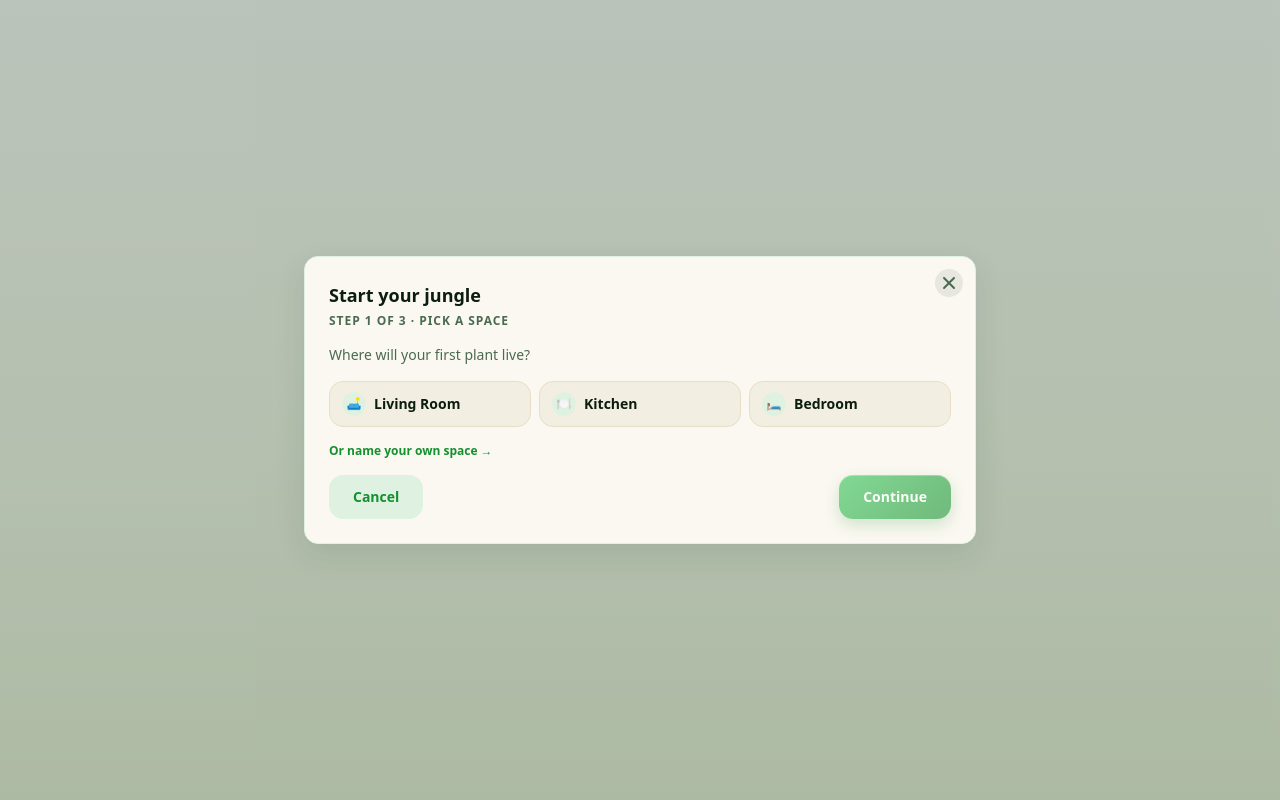
Scenario: StartJungleDialog › creates the picked space and advances to step 2 (Pick a plant)
This screenshot has width=1280, height=800.
Step 1. Click the checkbox labelled "🛋️ Living Room" → point(430, 404), box [330,382,530,426]
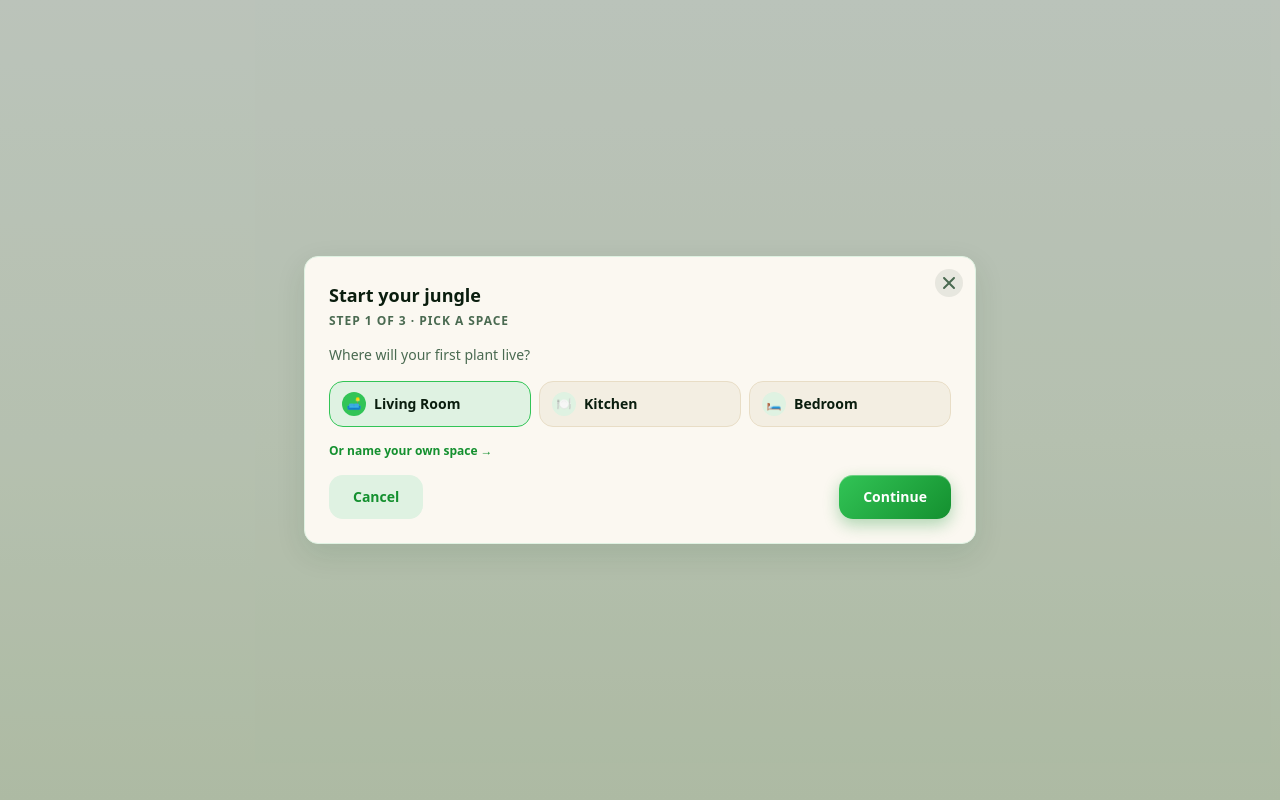
Step 2. Click the button "Continue" → point(895, 497), box [839,475,951,519]
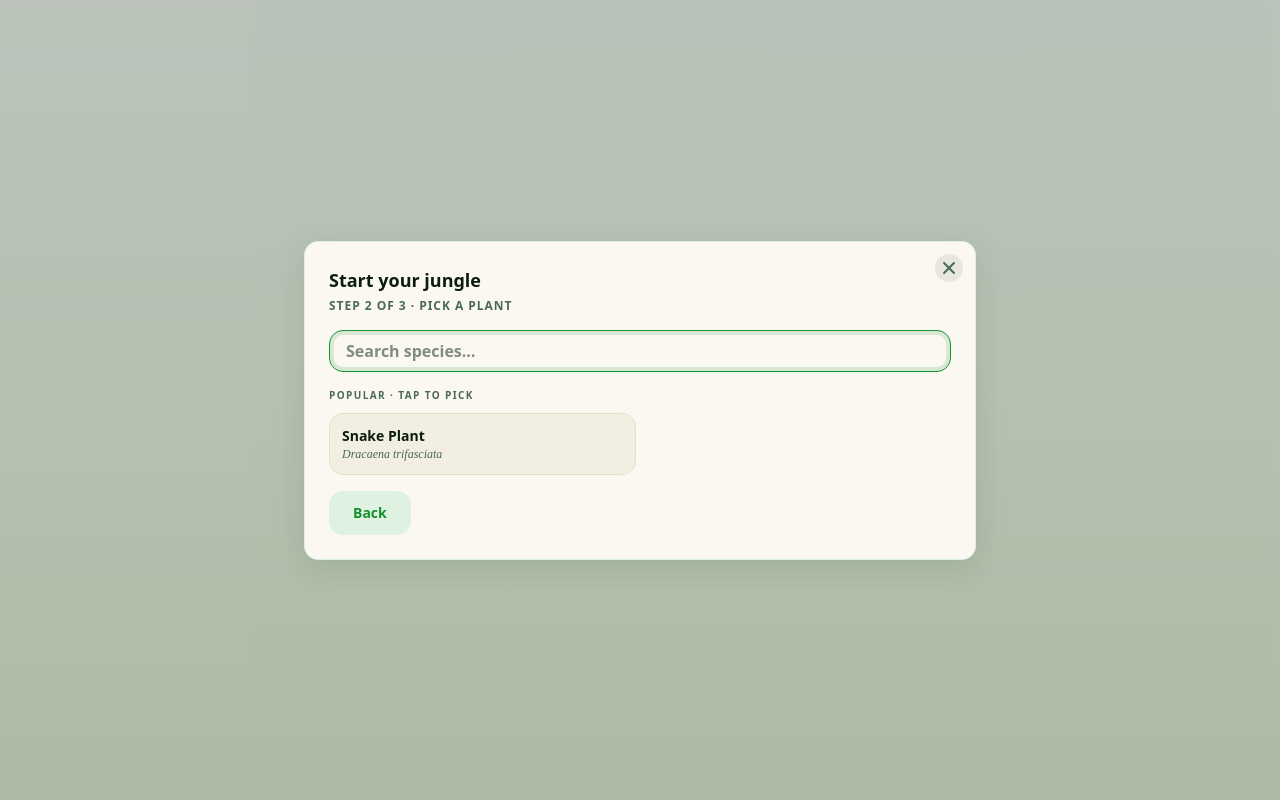
Expected: the text "Step 2 of 3 · Pick a plant" is shown, [329,296,512,314]
